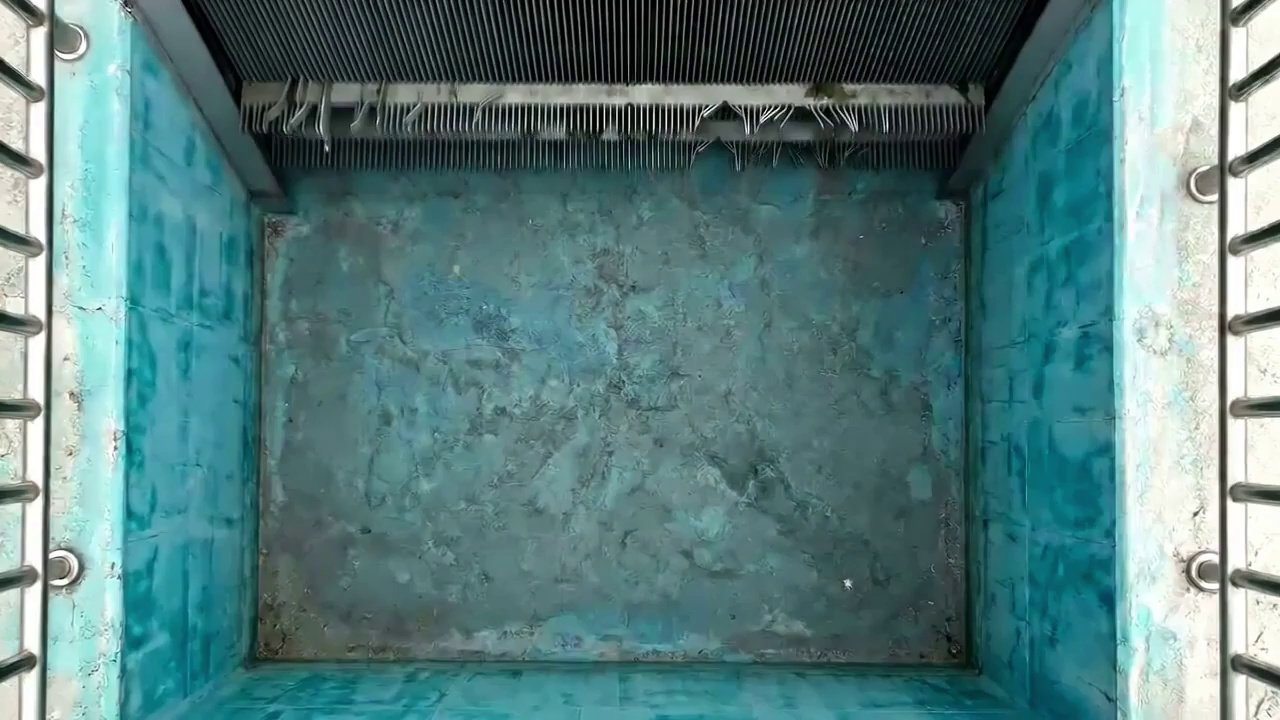damage: (683, 96, 893, 176), (248, 88, 501, 150)
